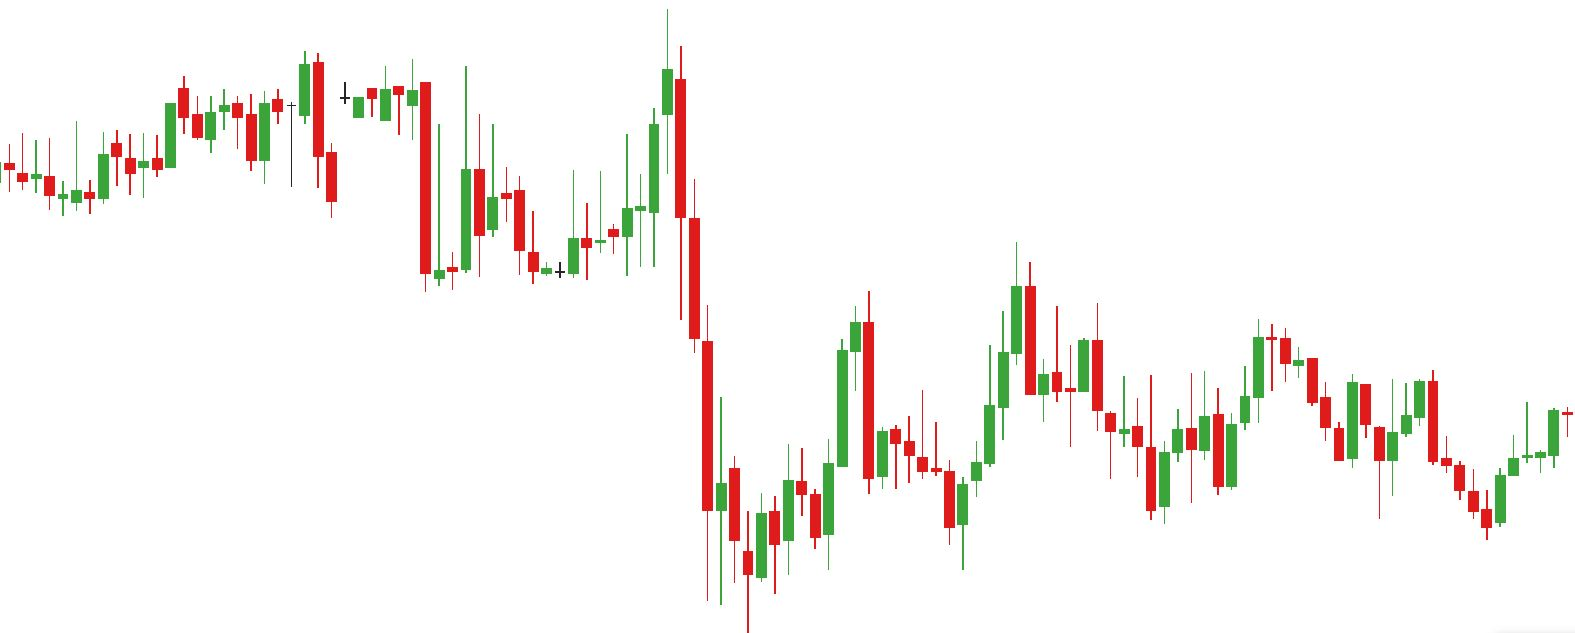sell: (456, 7, 690, 220), (859, 234, 1039, 436)
